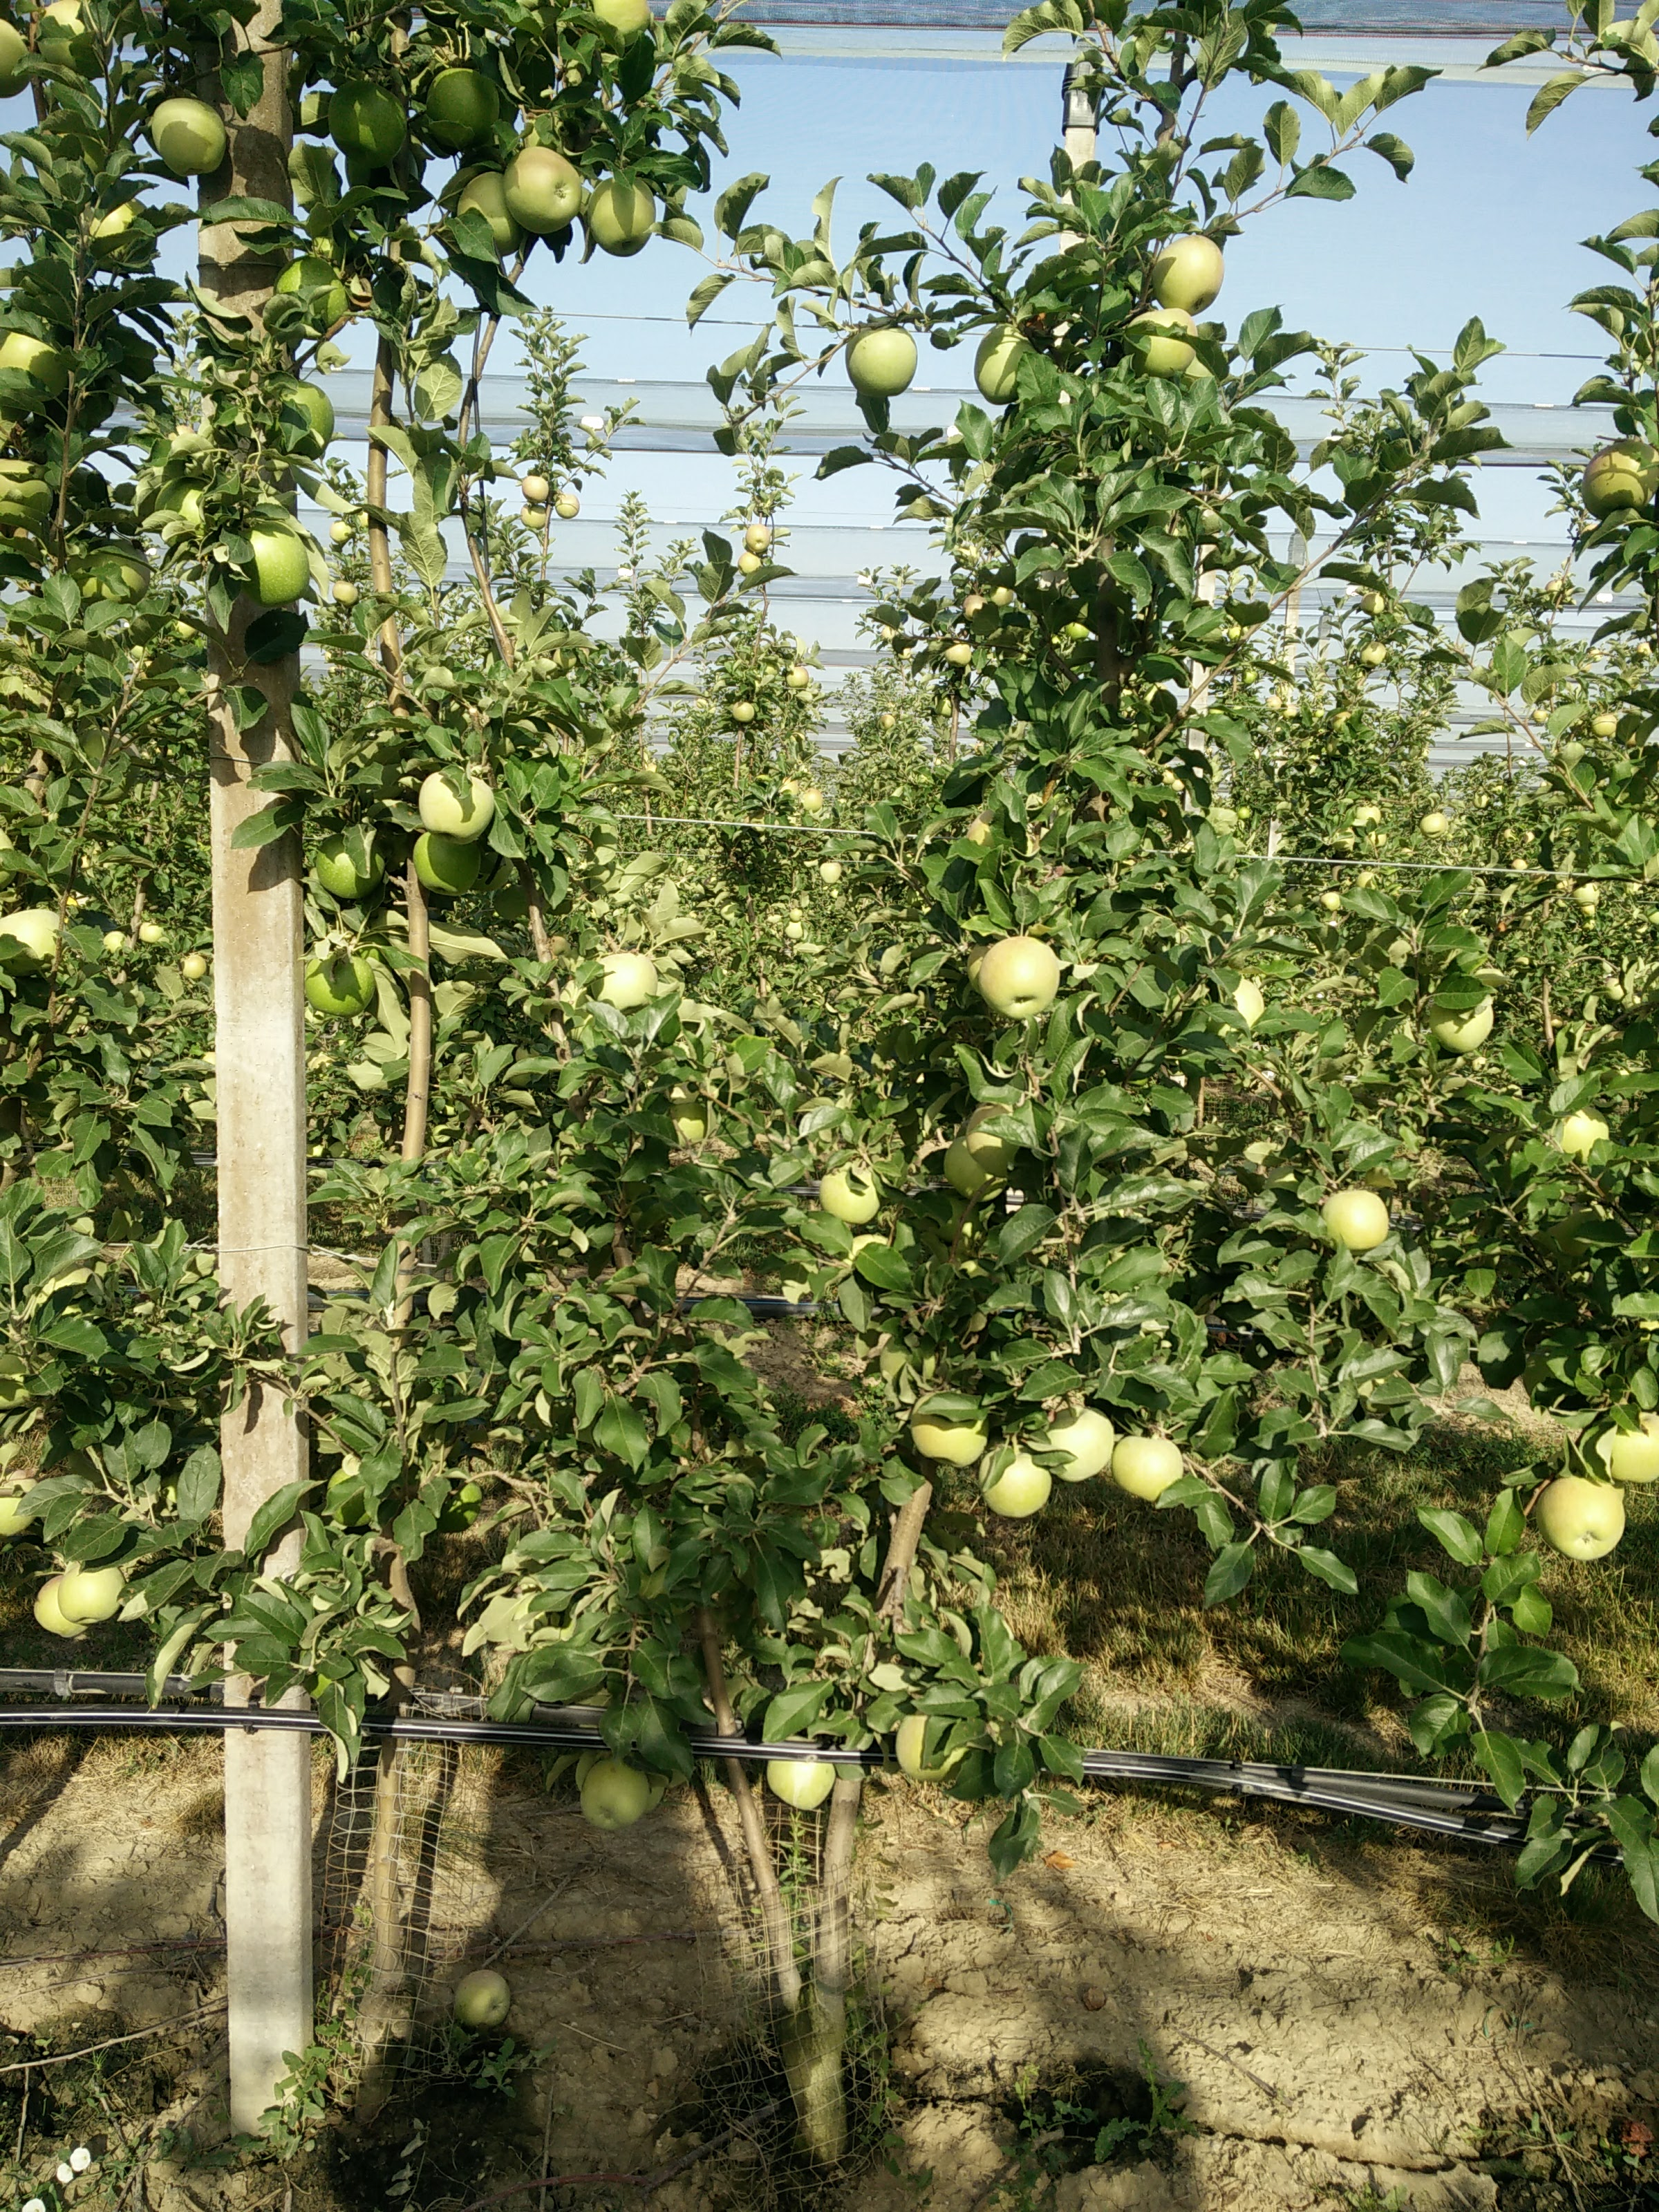apple: (502, 144, 581, 237), (1541, 1474, 1622, 1562), (142, 89, 228, 169), (230, 525, 313, 607), (979, 939, 1059, 1022), (890, 1703, 977, 1781), (1038, 1405, 1117, 1487), (299, 937, 374, 1022), (414, 762, 495, 839), (977, 1445, 1057, 1517), (1111, 1435, 1183, 1517), (911, 1392, 988, 1468), (575, 1758, 650, 1833), (1140, 238, 1220, 308), (60, 1553, 138, 1624), (585, 176, 655, 252), (1425, 985, 1499, 1056), (1128, 309, 1201, 378), (1575, 442, 1649, 509), (847, 328, 915, 396), (1321, 1190, 1391, 1256), (818, 1152, 888, 1219), (413, 827, 478, 899), (765, 1741, 836, 1805), (981, 321, 1039, 396), (1602, 1411, 1659, 1477), (1546, 1110, 1613, 1162)
